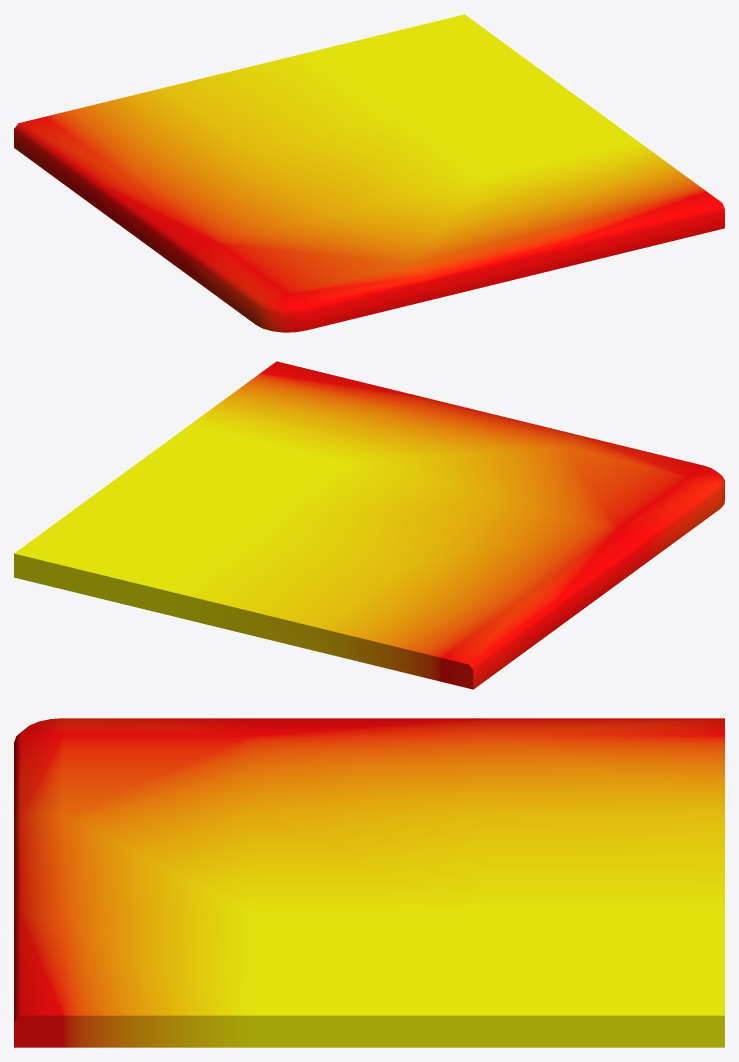
Rendered from sidewalk-corner-flat-3m.glb.
3 views of the same model, one above another, from view 1: azimuth 30°, elevation 25°; view 2: azimuth 150°, elevation 25°; view 3: azimuth 270°, elevation 25° (orthographic). The views are drawn at different scales.
Parts seen in each view (by area): view 1: Sidewalk_Corner_Flat_3m; view 2: Sidewalk_Corner_Flat_3m; view 3: Sidewalk_Corner_Flat_3m.
Boxes of the visible parts, x1=… form: Sidewalk_Corner_Flat_3m: x1=14, y1=14, x2=724, y2=332; Sidewalk_Corner_Flat_3m: x1=14, y1=361, x2=724, y2=689; Sidewalk_Corner_Flat_3m: x1=14, y1=718, x2=724, y2=1047.
Size of the model in its own units: 3.01 by 0.15 by 3.01.
Materials: 1 (1 with a texture image).
